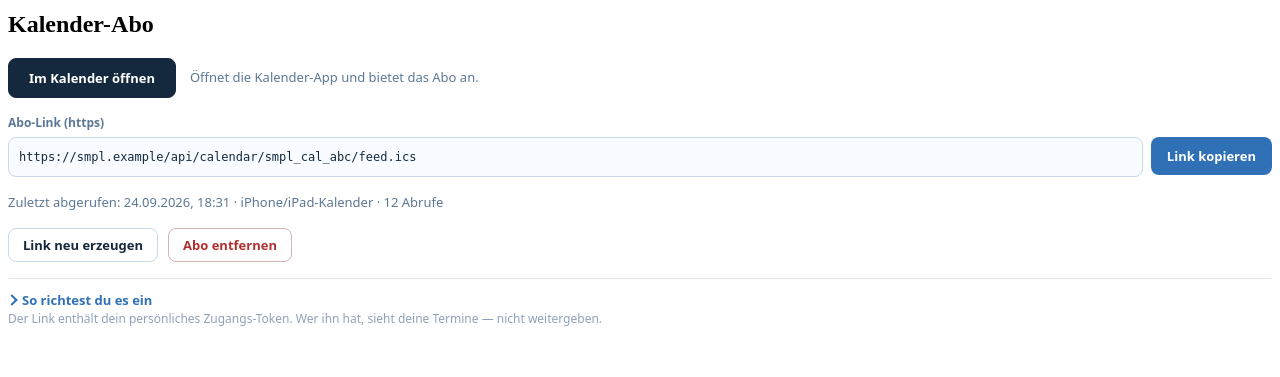
Test: CalendarFeedSection › keeps the subscription on screen when rotating fails and reports why
Expected: the link "Im Kalender öffnen" is shown, [8, 58, 176, 98]
Click the button "Link neu erzeugen": point(83, 245) [8, 228, 158, 262]
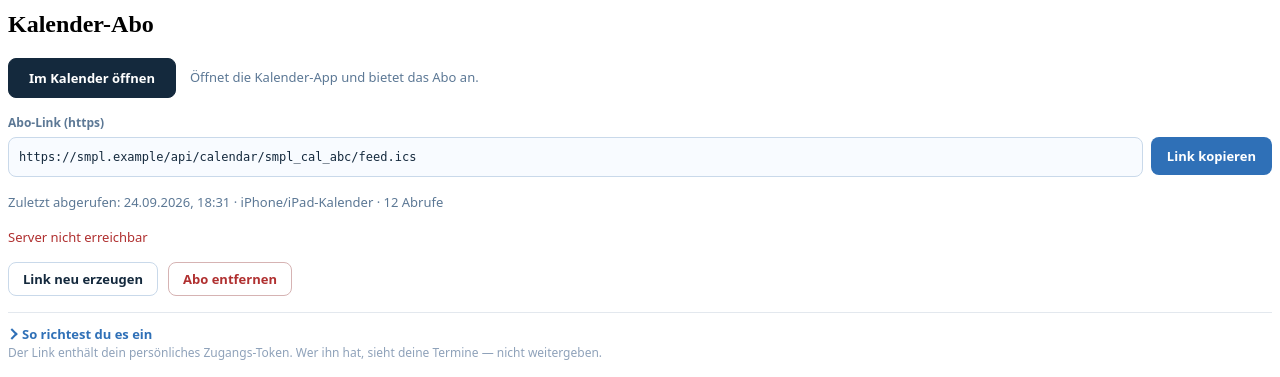
Expected: the field labelled "Abo-Link (https)" holds "https://smpl.example/api/calendar/smpl_cal_abc/feed.ics", [8, 137, 1143, 177]
Now the text "Server nicht erreichbar" is shown, box [8, 228, 148, 246]
